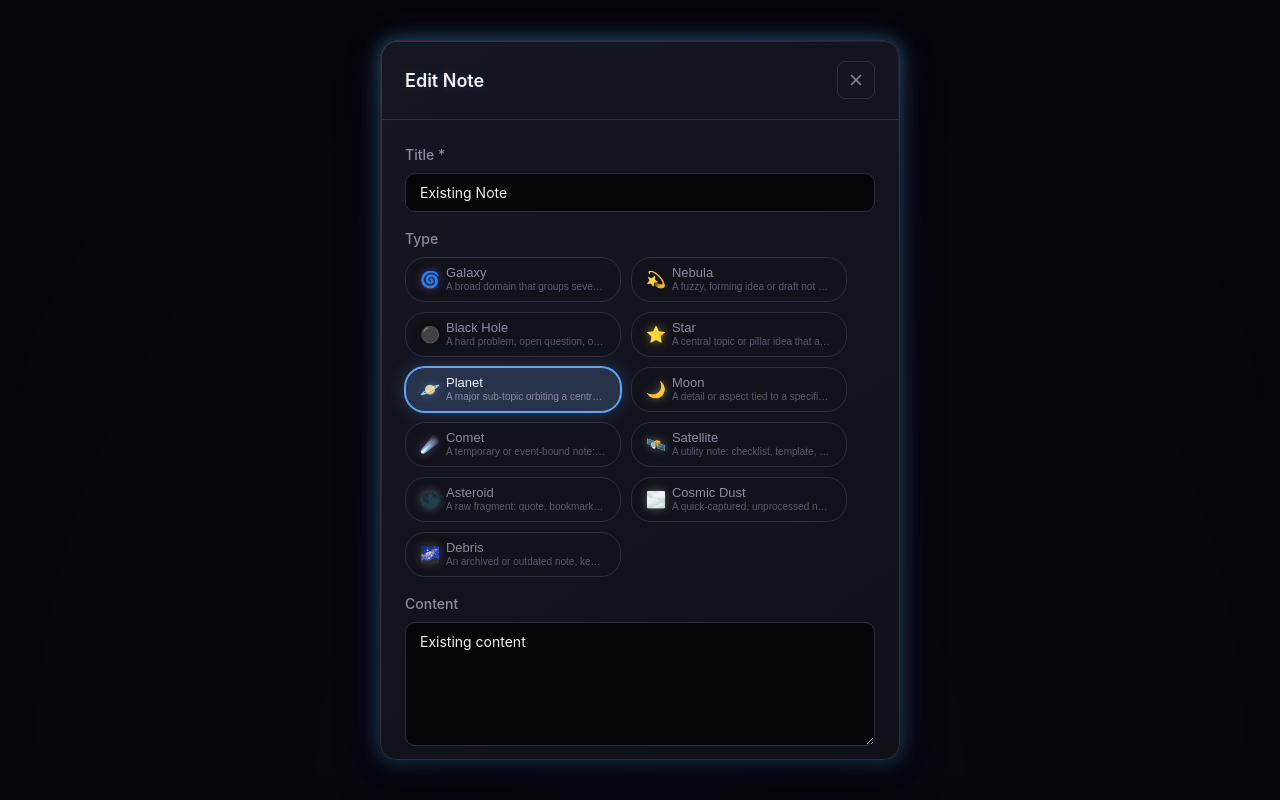
Test case: EditNoteModal › shows validation error when title is empty
This screenshot has width=1280, height=800.
Clear the field with test id "edit-title-input": (640, 192) [405,173,875,212]
(page scrolled)
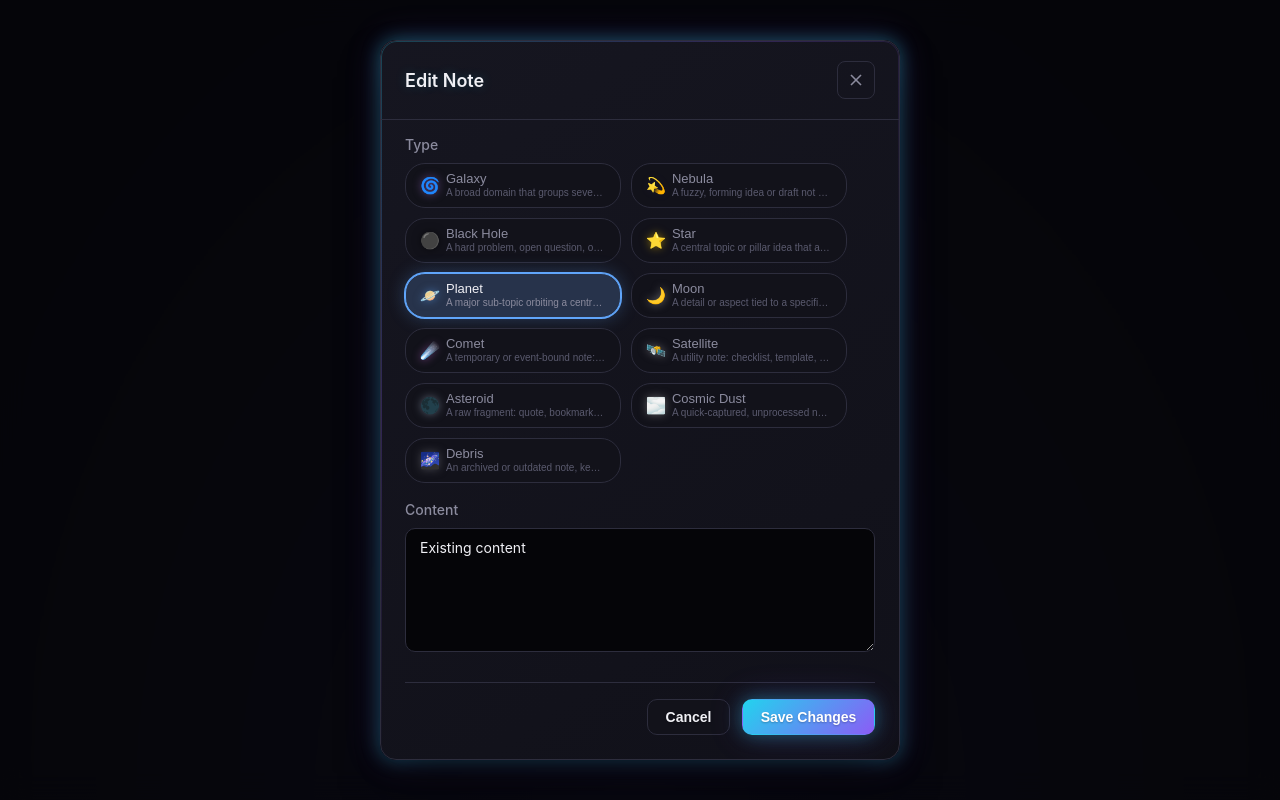
Click the button "Save Changes": (809, 717) [742,699,875,735]
(page scrolled)
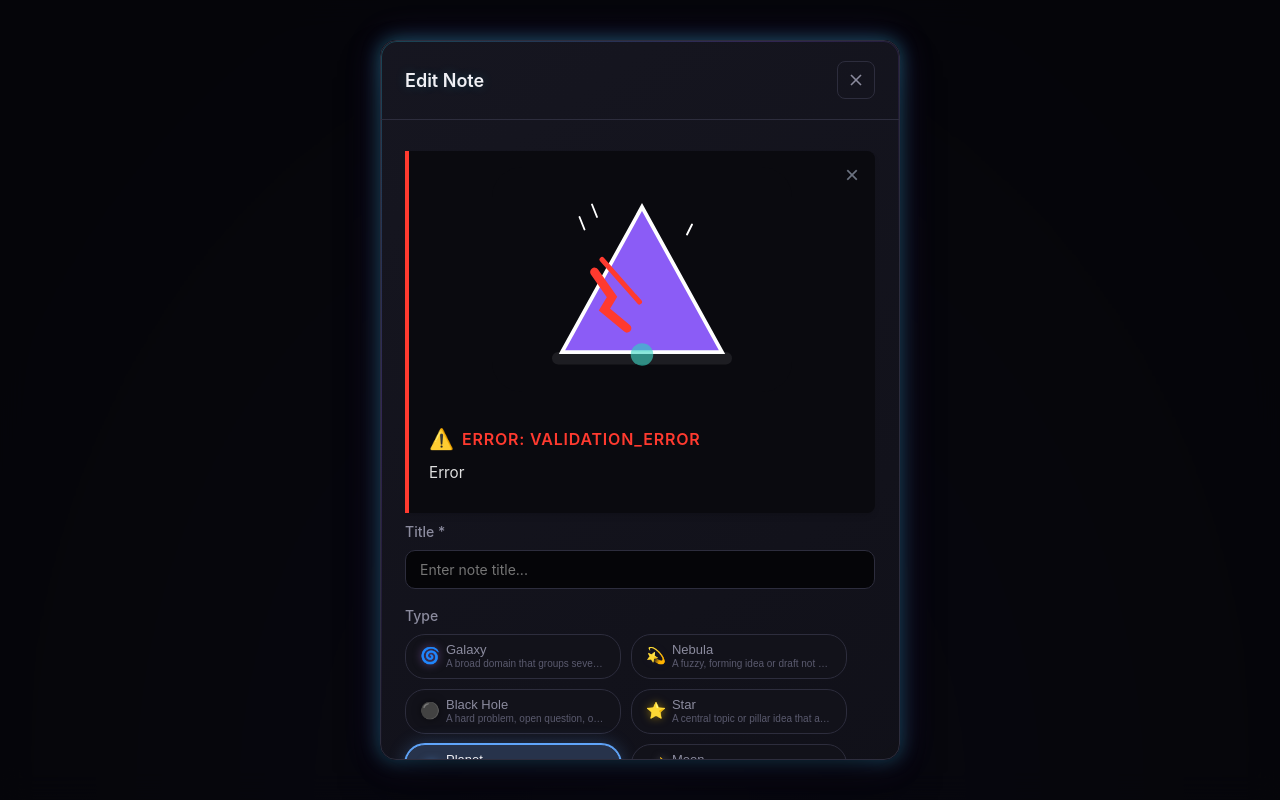
Check: the text "Error: VALIDATION_ERROR" is shown, box [462,427,700,451]
